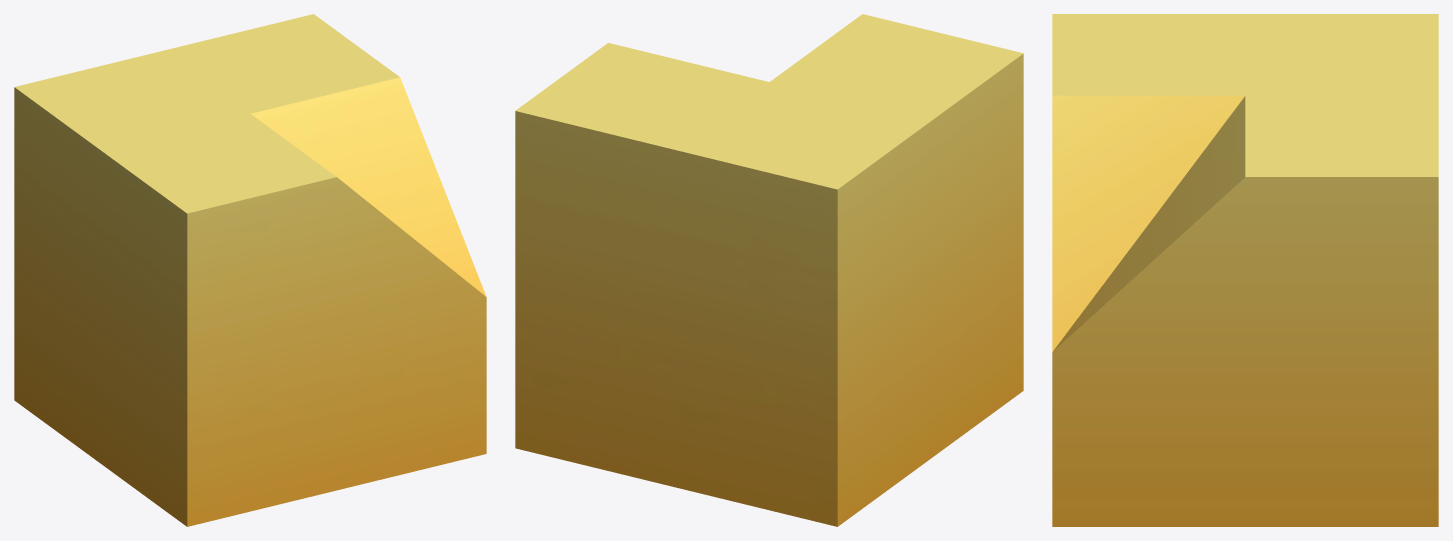
File: primitive-slope-half-inner-corner.glb
3 renders of one model, left to right at view 1: azimuth 30°, elevation 25°; view 2: azimuth 150°, elevation 25°; view 3: azimuth 270°, elevation 25°, orthographic. The views are drawn at different scales.
Parts seen in each view (by area): view 1: Primitive_Slope_Half_InnerCorner; view 2: Primitive_Slope_Half_InnerCorner; view 3: Primitive_Slope_Half_InnerCorner.
Part boxes in pixels (bbox=[...]): Primitive_Slope_Half_InnerCorner: bbox=[14, 14, 486, 526]; Primitive_Slope_Half_InnerCorner: bbox=[515, 14, 1023, 526]; Primitive_Slope_Half_InnerCorner: bbox=[1052, 14, 1438, 526].
Bounding box in the file's own units: 4 × 4 × 4.
Materials: 1 (1 with a texture image).
